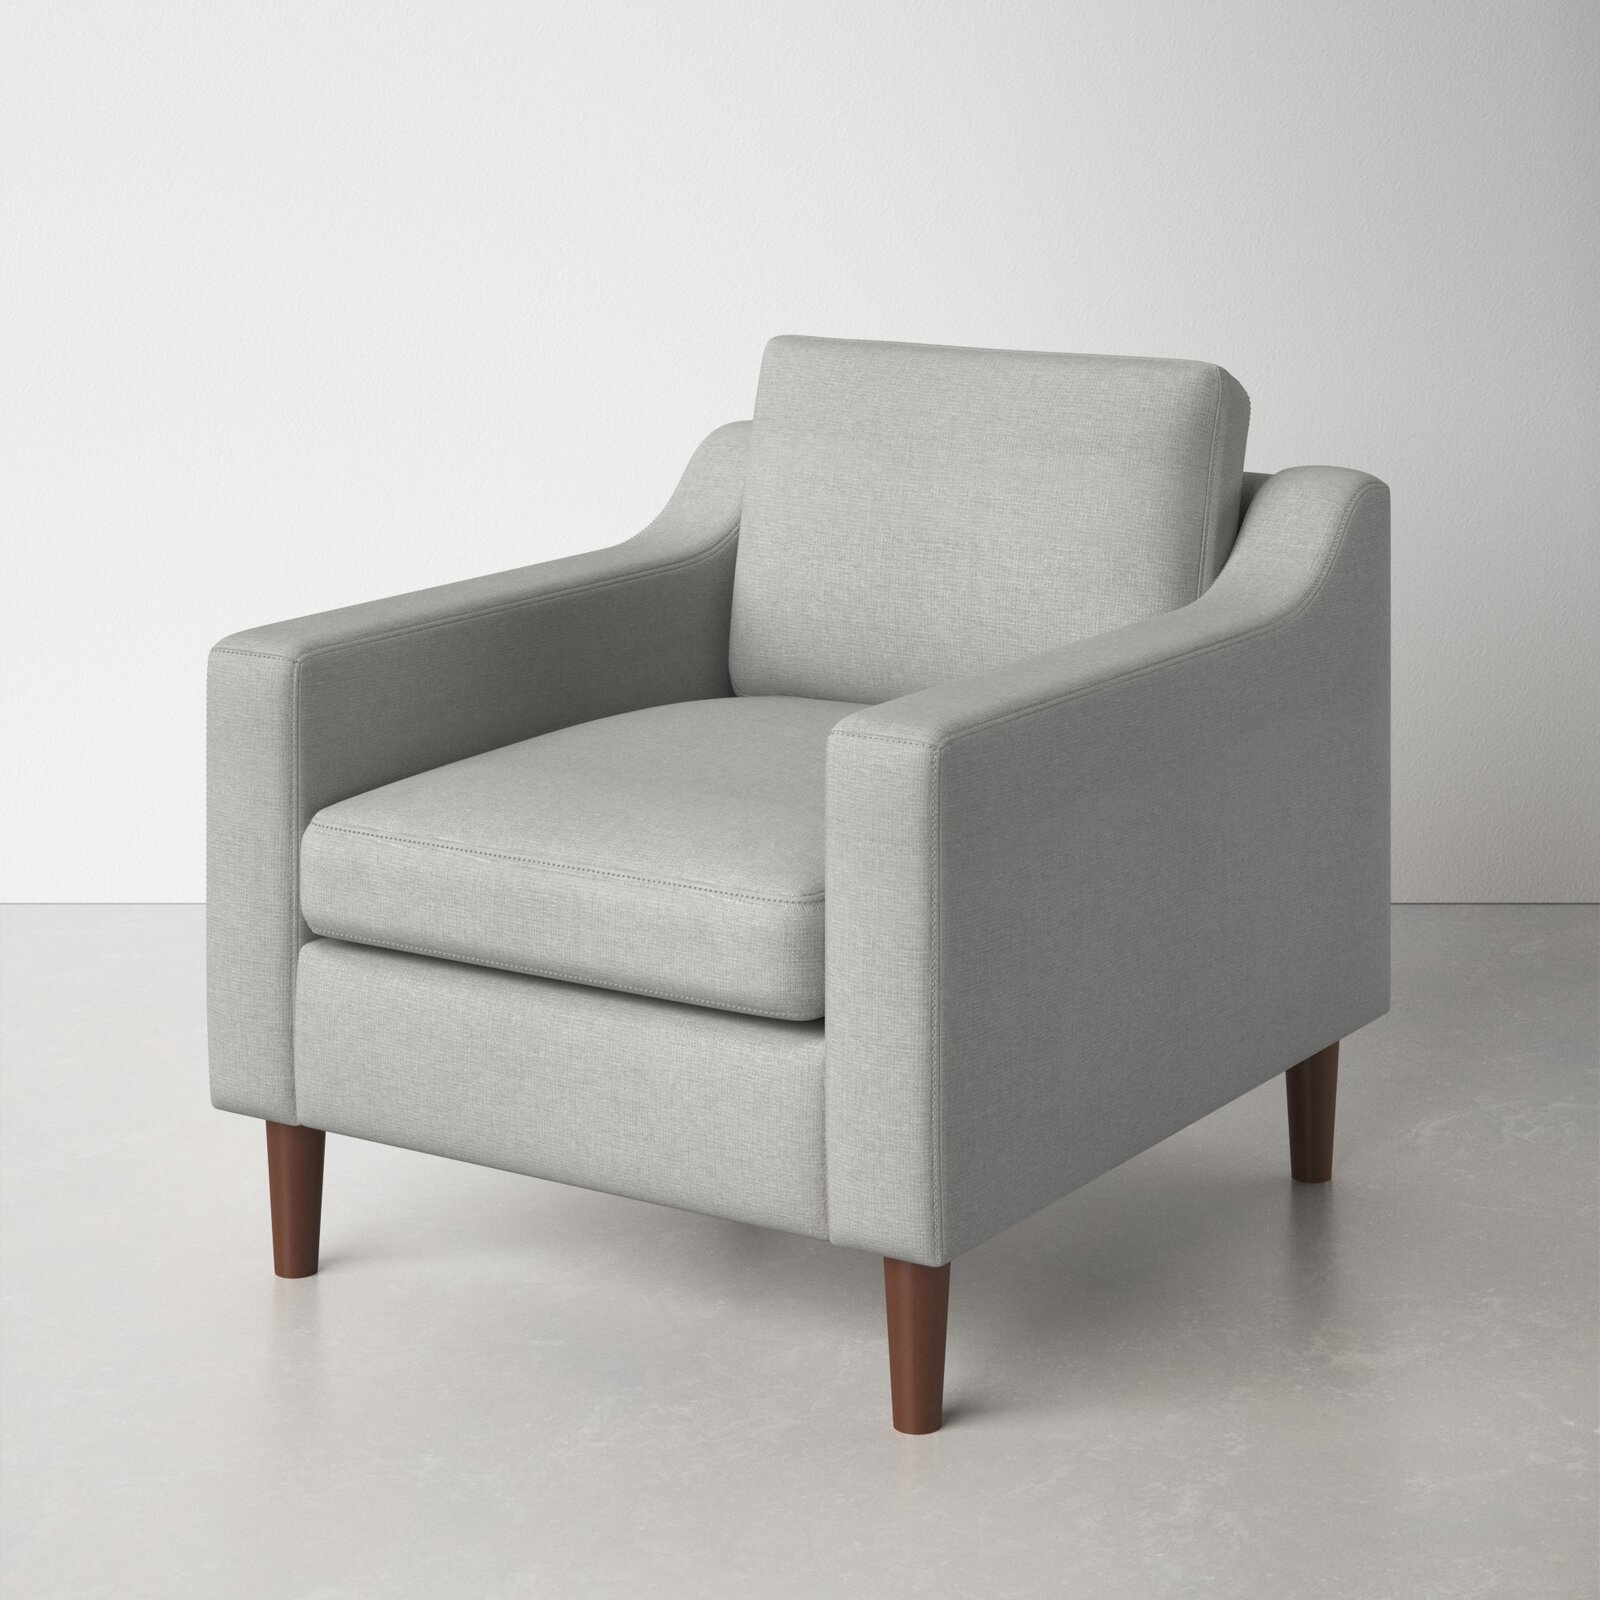obstacle: (210, 337, 1388, 1430)
